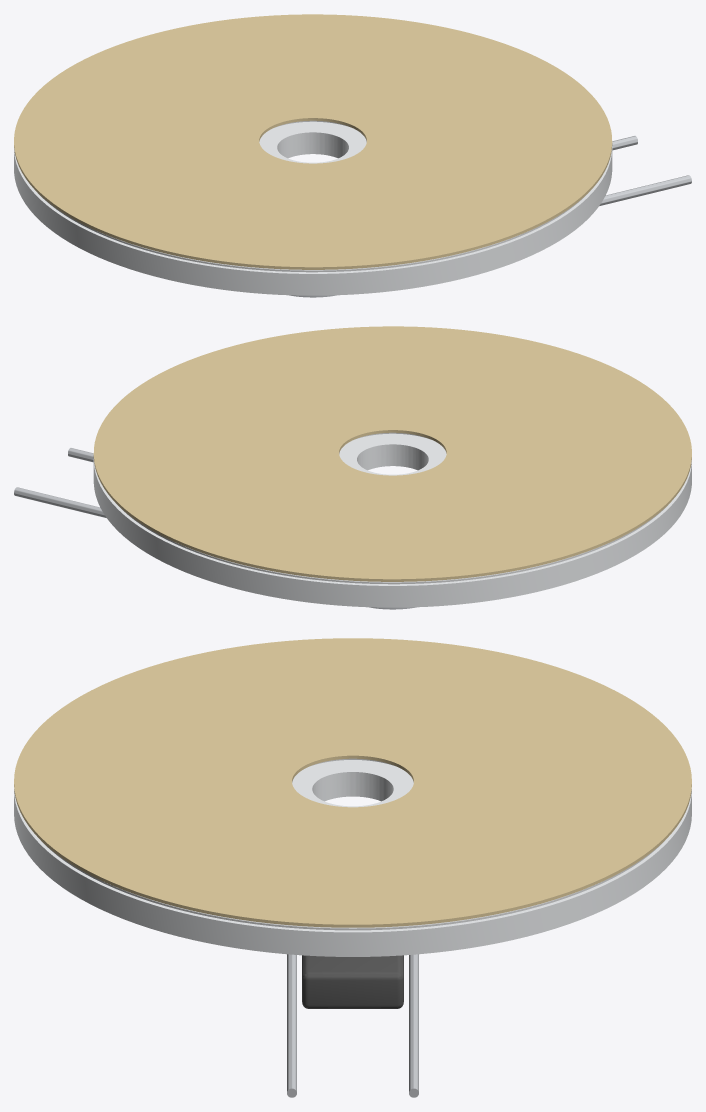
Rendered from compact-disc.glb.
3 renders of one model, top to bottom at view 1: azimuth 30°, elevation 25°; view 2: azimuth 150°, elevation 25°; view 3: azimuth 270°, elevation 25°, orthographic. The views are drawn at different scales.
Parts seen in each view (by area): view 1: label, polycarbonate, aluminium, laser; view 2: label, polycarbonate, aluminium, laser; view 3: label, polycarbonate, laser, aluminium.
Part boxes in pixels (x1,y1,x2,y2): label: [14, 14, 612, 269]; polycarbonate: [14, 121, 612, 295]; aluminium: [38, 120, 589, 272]; laser: [599, 136, 691, 206]; label: [93, 326, 691, 581]; polycarbonate: [93, 433, 691, 607]; aluminium: [116, 432, 667, 584]; laser: [14, 448, 106, 518]; label: [14, 638, 691, 927]; polycarbonate: [14, 760, 691, 956]; laser: [287, 954, 418, 1097]; aluminium: [41, 758, 664, 930].
Bounding box in the file's own units: 2.35 × 0.485 × 2.
